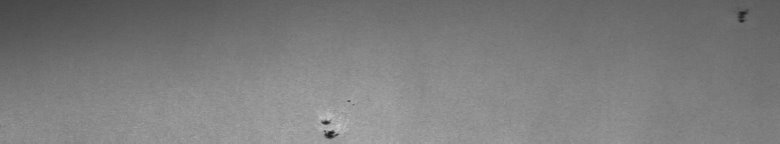fi: (732, 4, 752, 28)
